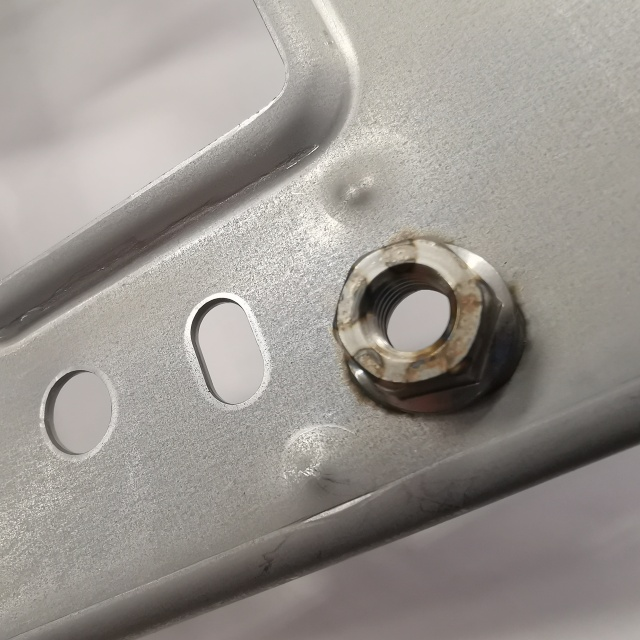dog: (325, 233, 529, 422)
